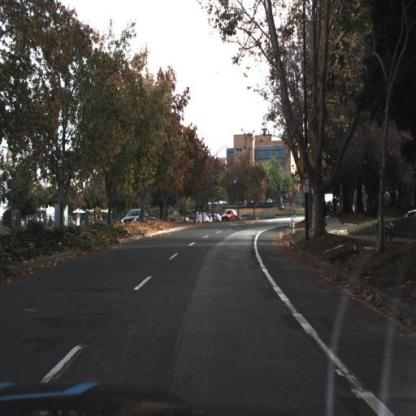car: (118, 207, 152, 228), (220, 206, 241, 227)
